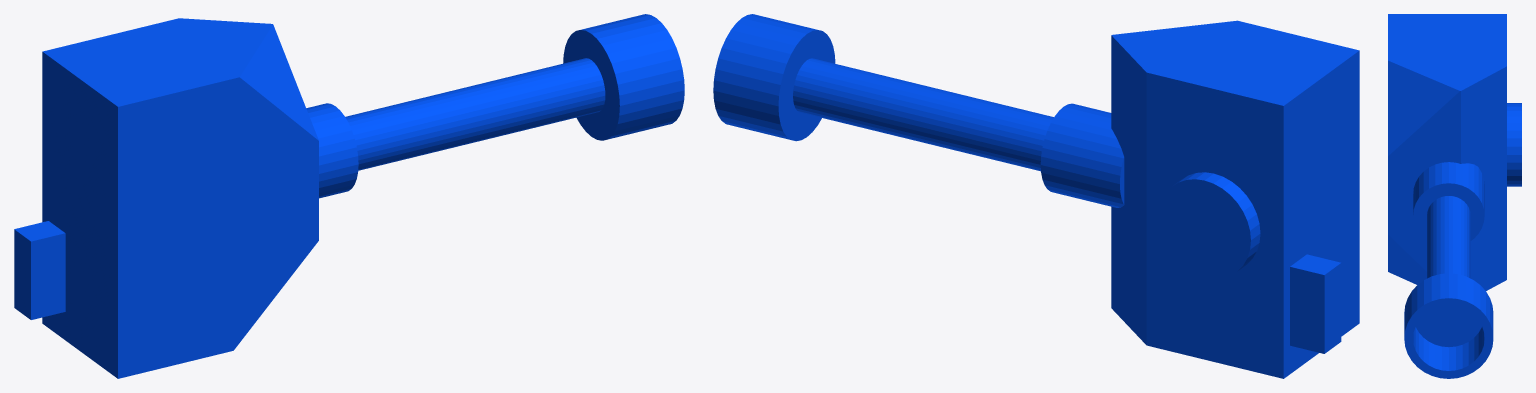
Rendered from Tank_Head.fbx.
3 views of the same model, side by side, from view 1: azimuth 30°, elevation 25°; view 2: azimuth 150°, elevation 25°; view 3: azimuth 270°, elevation 25° (orthographic). The views are drawn at different scales.
Visible parts, largest first — view 1: Cube.008; view 2: Cube.008; view 3: Cube.008.
Part boxes in pixels (<box>): Cube.008: <box>14,14,684,378</box>; Cube.008: <box>713,14,1359,378</box>; Cube.008: <box>1388,14,1521,378</box>.
Size of the model in its own units: 212 by 90.14 by 51.11.
Materials: 1 (1 with a texture image).
